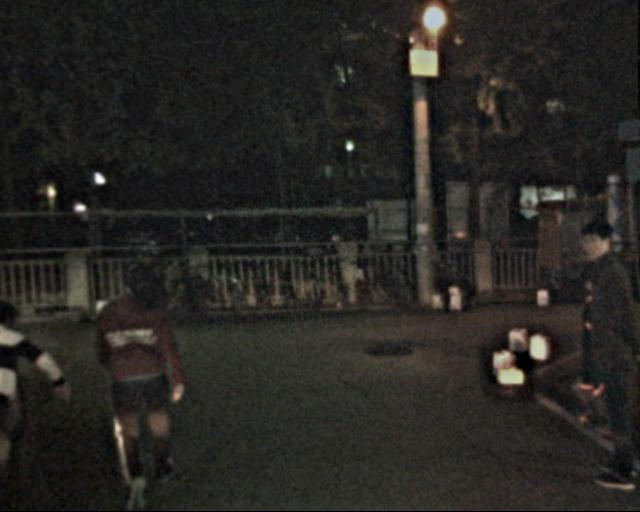person: (104, 243, 202, 494), (564, 217, 636, 482), (1, 290, 42, 490)
